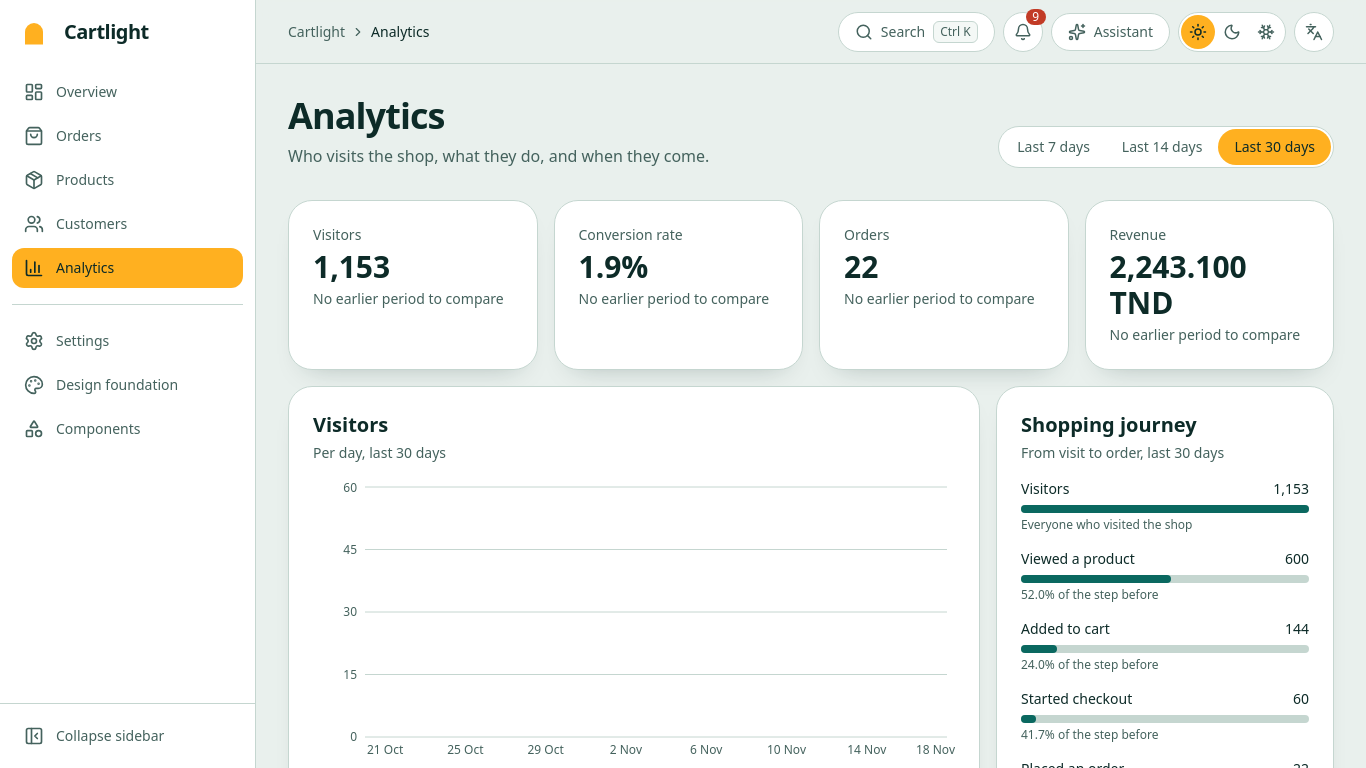
Test: analytics page › changes every number when another range is chosen
Expected: the heading "Analytics" is shown, [288, 91, 445, 140]
Click the button "Last 7 days": [1054, 147] box [1001, 129, 1106, 165]
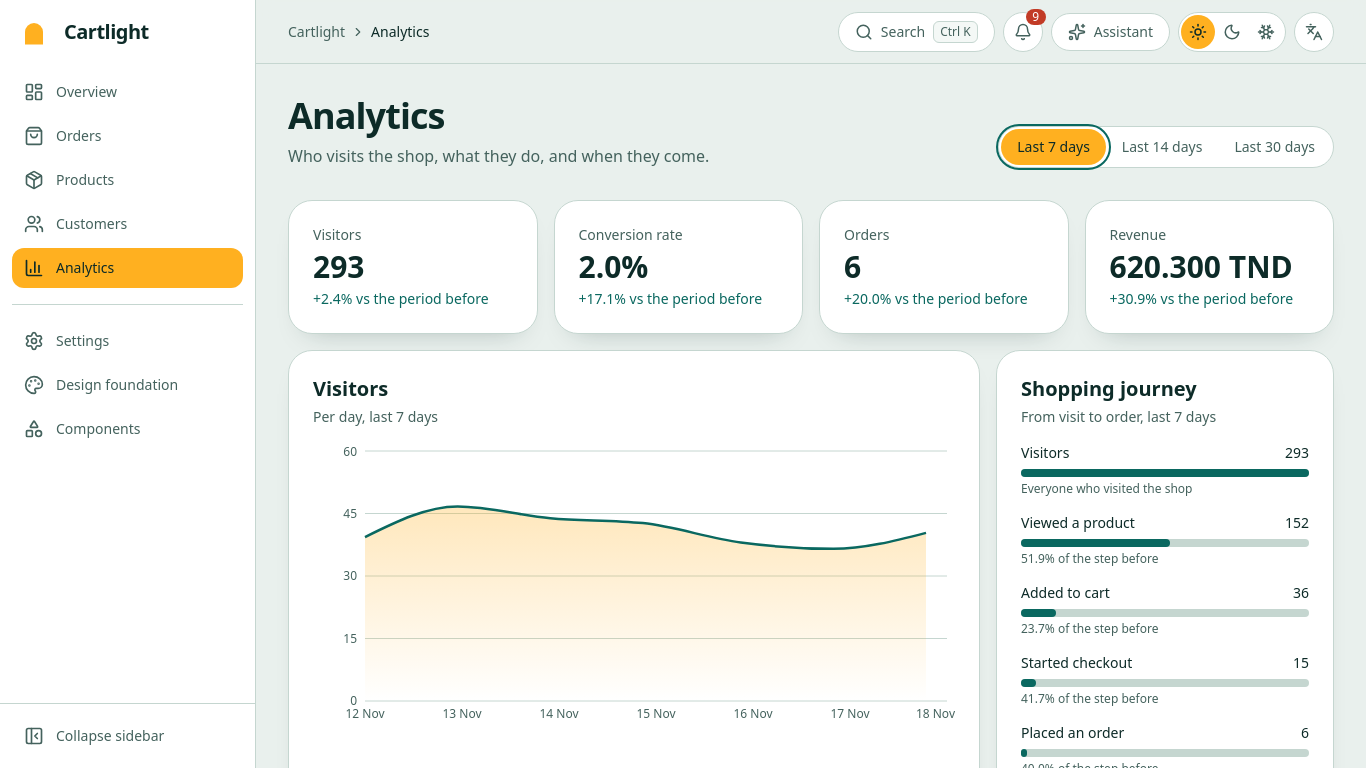
Result: the text "+2.4% vs the period before" is shown at [313, 289, 512, 309]
